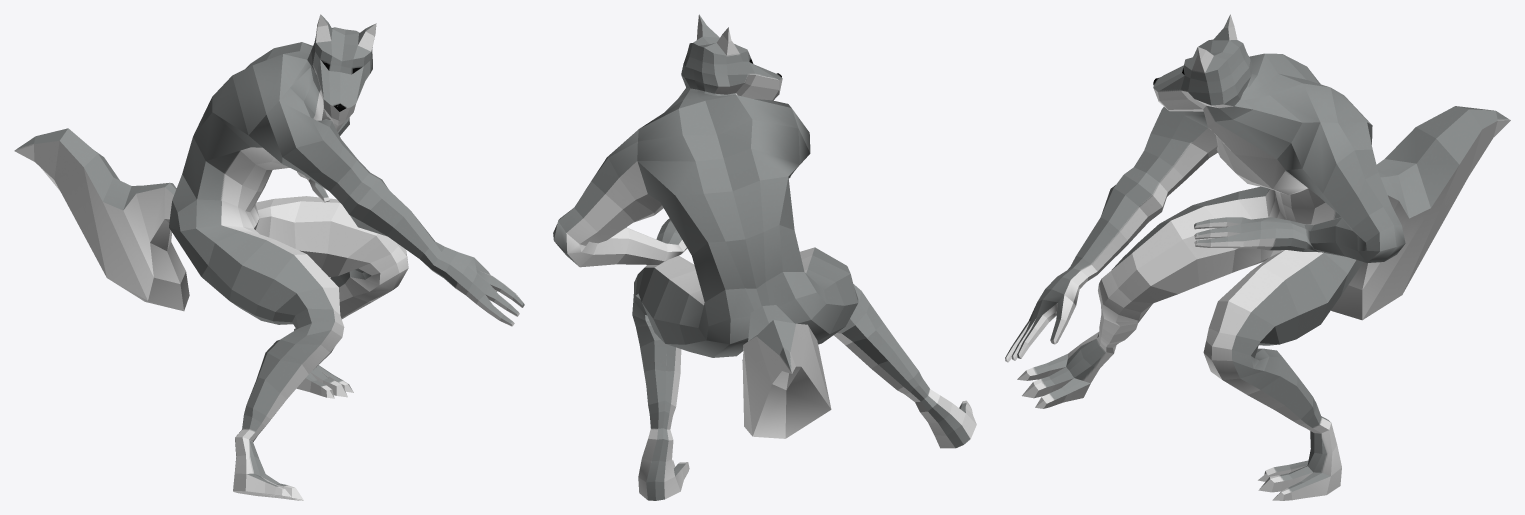
Rendered from WolfAttack(40).obj.
3 renders of one model, left to right at view 1: azimuth 30°, elevation 25°; view 2: azimuth 150°, elevation 25°; view 3: azimuth 270°, elevation 25°, orthographic. The views are drawn at different scales.
Parts seen in each view (by area): view 1: Box001; view 2: Box001; view 3: Box001.
Boxes of the visible parts, <box> form: Box001: <box>14,14,524,500</box>; Box001: <box>553,14,976,500</box>; Box001: <box>1005,14,1510,500</box>.
Bounding box in the file's own units: 88.26 × 117 × 117.
